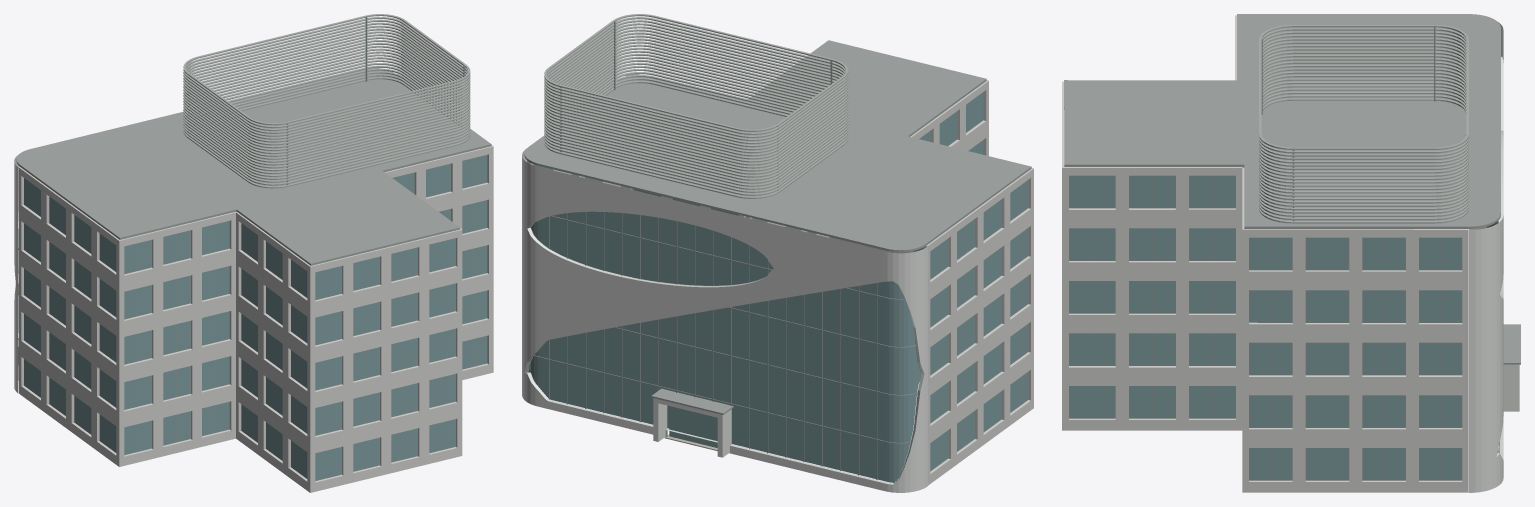
3 renders of one model, left to right at view 1: azimuth 30°, elevation 25°; view 2: azimuth 150°, elevation 25°; view 3: azimuth 270°, elevation 25°, orthographic. The views are drawn at different scales.
Parts seen in each view (by area): view 1: w12__wall, w12__glass, w12__roof, w12__metal, w12__frame, w12__ribbon; view 2: w12__glass, w12__roof, w12__metal, w12__ribbon, w12__wall, w12__frame; view 3: w12__wall, w12__roof, w12__glass, w12__metal, w12__ribbon, w12__frame.
Part boxes in pixels (bbox=[...]): w12__wall: bbox=[18, 145, 493, 492]; w12__glass: bbox=[18, 155, 486, 480]; w12__roof: bbox=[16, 68, 491, 265]; w12__metal: bbox=[183, 14, 470, 188]; w12__frame: bbox=[18, 16, 487, 480]; w12__ribbon: bbox=[14, 155, 237, 392]; w12__glass: bbox=[528, 92, 1027, 482]; w12__roof: bbox=[524, 40, 1031, 414]; w12__metal: bbox=[544, 14, 848, 198]; w12__ribbon: bbox=[522, 149, 927, 492]; w12__wall: bbox=[526, 80, 1033, 485]; w12__frame: bbox=[529, 21, 1028, 479]; w12__wall: bbox=[1062, 15, 1468, 492]; w12__roof: bbox=[1064, 14, 1520, 364]; w12__glass: bbox=[1070, 175, 1498, 479]; w12__metal: bbox=[1259, 25, 1468, 223]; w12__ribbon: bbox=[1469, 22, 1519, 492]; w12__frame: bbox=[1069, 25, 1499, 480].
Size of the model in its own units: 32.44 by 23.98 by 29.26.
